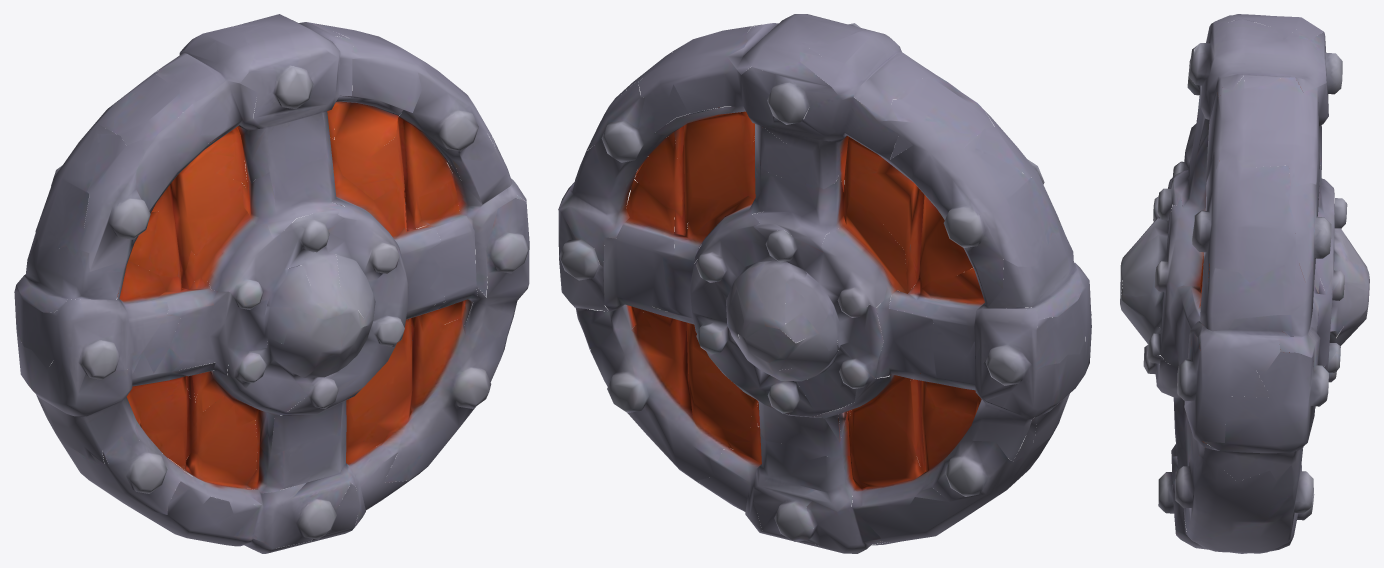
File: Arm_iron_shield-dSd40o2O.glb
3 renders of one model, left to right at view 1: azimuth 30°, elevation 25°; view 2: azimuth 150°, elevation 25°; view 3: azimuth 270°, elevation 25°, orthographic. The views are drawn at different scales.
Parts seen in each view (by area): view 1: Arm_iron_shield; view 2: Arm_iron_shield; view 3: Arm_iron_shield.
Part boxes in pixels (<box>): Arm_iron_shield: <box>14,14,529,553</box>; Arm_iron_shield: <box>558,14,1091,553</box>; Arm_iron_shield: <box>1120,14,1369,553</box>.
Bounding box in the file's own units: 0.8193 × 0.8201 × 0.3684.
1 material, 1 textured.
